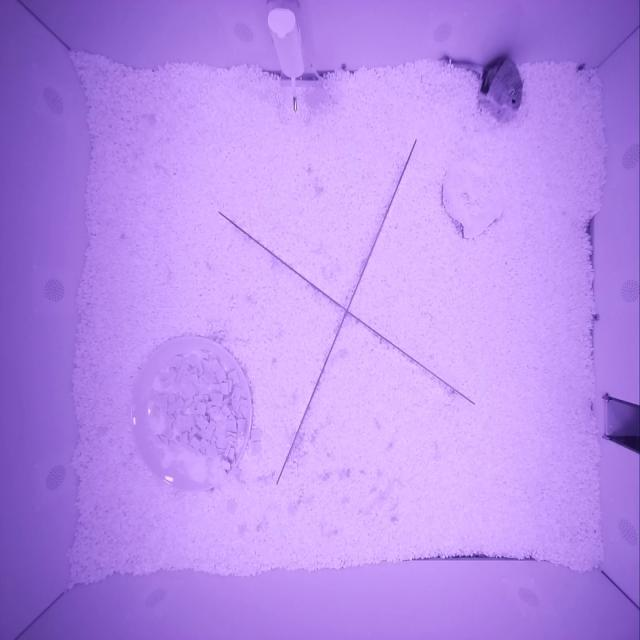adult_back: (479, 54, 524, 114)
